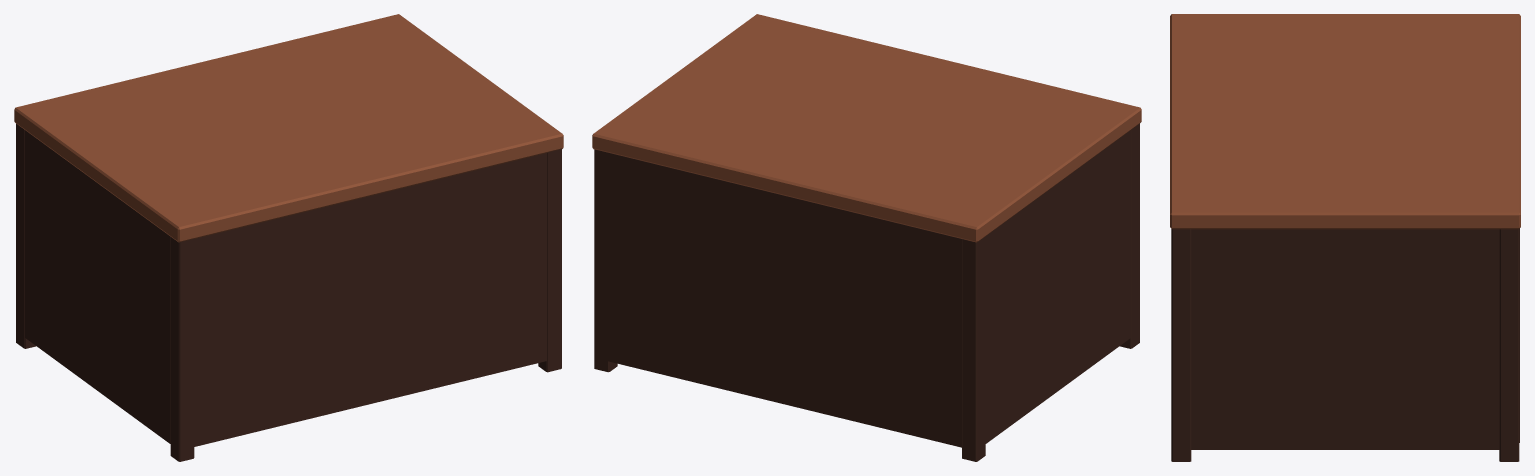
File: TVTable.fbx
3 views of the same model, side by side, from view 1: azimuth 30°, elevation 25°; view 2: azimuth 150°, elevation 25°; view 3: azimuth 270°, elevation 25° (orthographic). The views are drawn at different scales.
Parts seen in each view (by area): view 1: Cube.004; view 2: Cube.004; view 3: Cube.004.
Part boxes in pixels (x1,y1,x2,y2): Cube.004: (14,14,563,461); Cube.004: (592,14,1141,461); Cube.004: (1170,14,1520,461).
Bounding box in the file's own units: 120 × 69.81 × 88.96.
